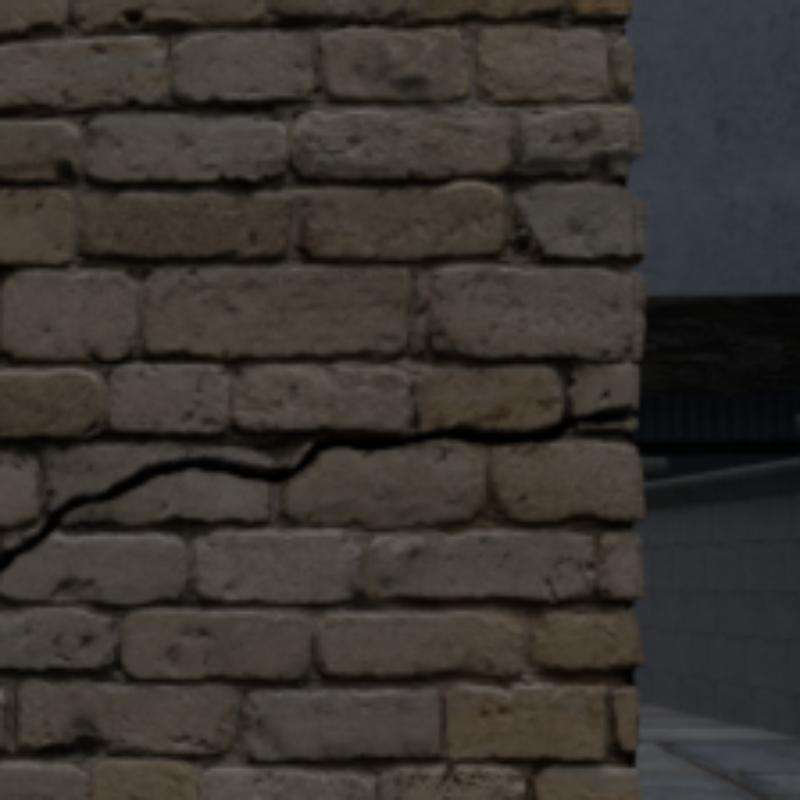pothole: (0, 406, 637, 568)
